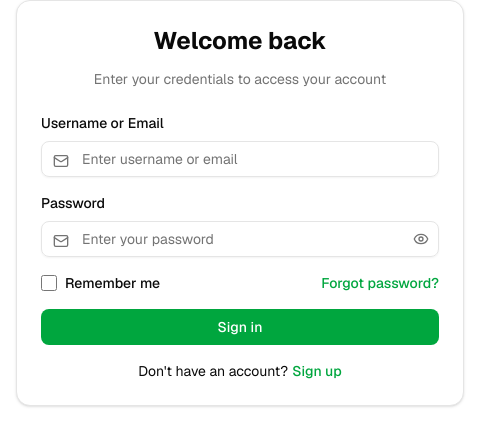
AuthForm Component › shows loading state during submission
Type "testuser" into the field labelled "Username or Email". click: coordinates (240, 159)
box: [41, 141, 439, 177]
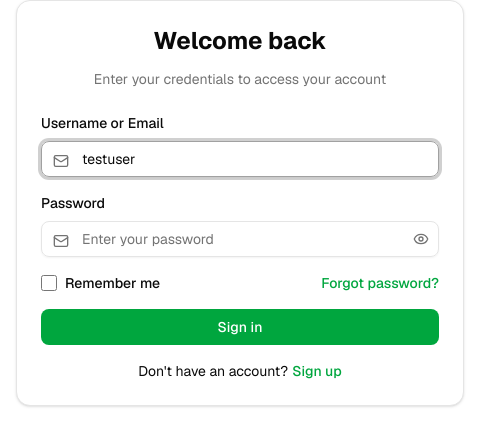
Type "password123" into the password field labelled "Password". click: coordinates (240, 239)
box: [41, 221, 439, 257]
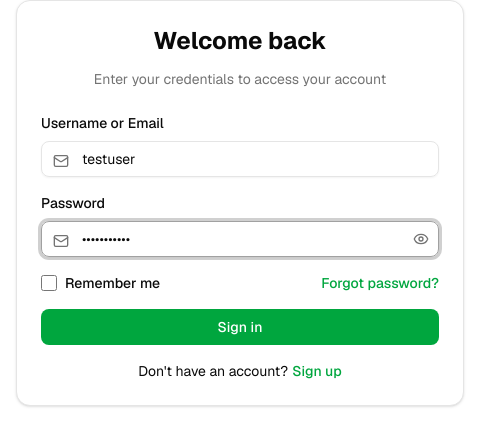
Click the button "Sign in". click: coordinates (240, 327)
box: [41, 309, 439, 345]
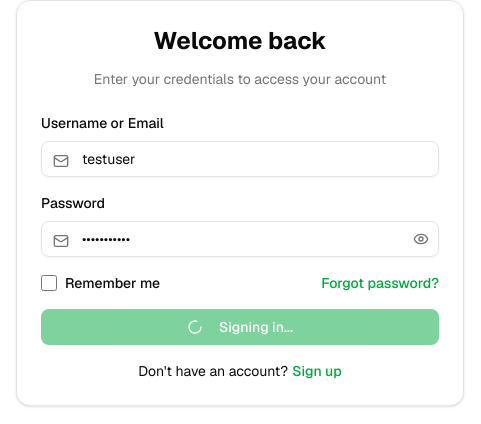
Expected: the button "Signing in..." is shown, [41, 309, 439, 345]
